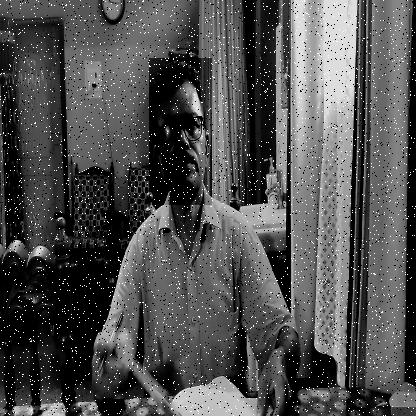Normal: (149, 58, 212, 205)
